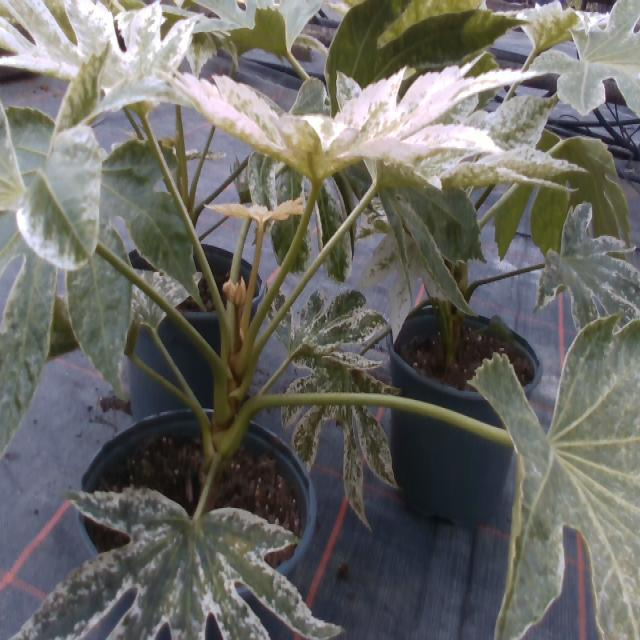Fatsia-japonica: (3, 457, 346, 640), (1, 101, 195, 419), (458, 313, 640, 640), (162, 52, 546, 196), (311, 0, 515, 138), (1, 0, 195, 121), (490, 124, 640, 279), (284, 351, 406, 518), (535, 192, 640, 338), (526, 3, 640, 125), (144, 0, 314, 61), (260, 290, 391, 366), (114, 252, 202, 341), (497, 0, 612, 52)
